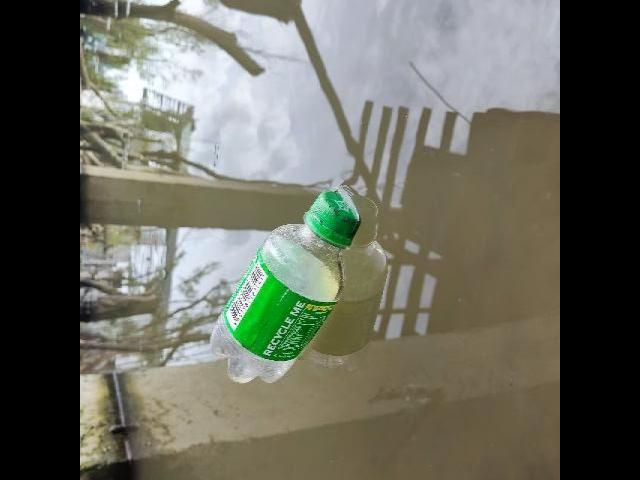Bottle: (204, 178, 366, 392)
